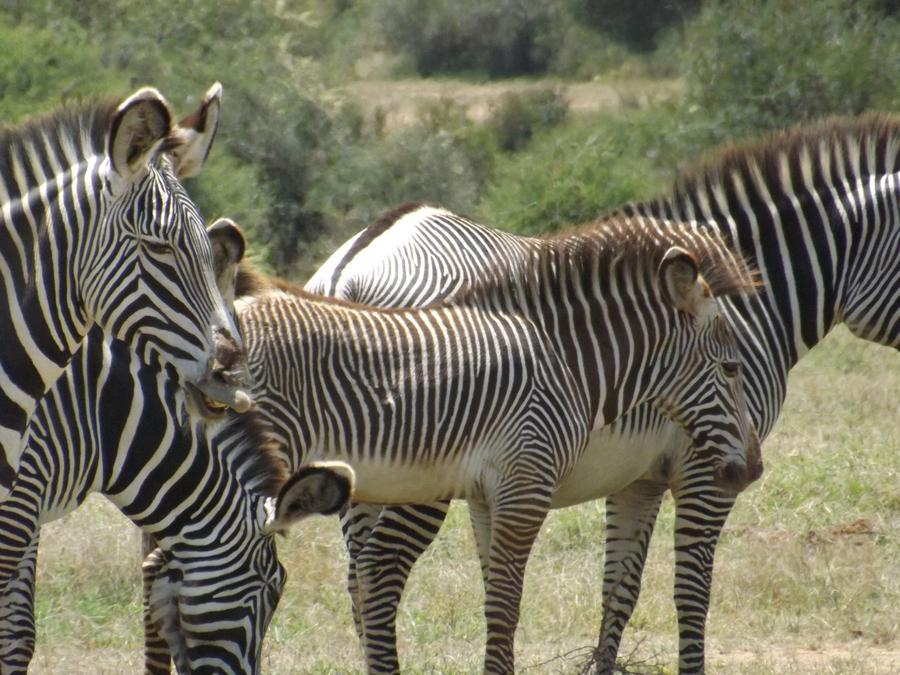zebra_grevys: (251, 268, 568, 483)
